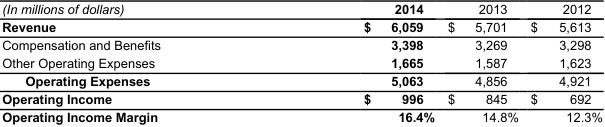table: (1, 0, 602, 123)
table column: (1, 0, 261, 123), (261, 0, 440, 123), (440, 0, 523, 123), (523, 0, 602, 123)
table column header: (1, 0, 602, 17)
table row: (1, 17, 602, 35), (1, 35, 602, 53), (1, 53, 602, 71), (1, 71, 602, 89), (1, 89, 602, 107), (1, 0, 602, 17), (1, 107, 602, 123)
